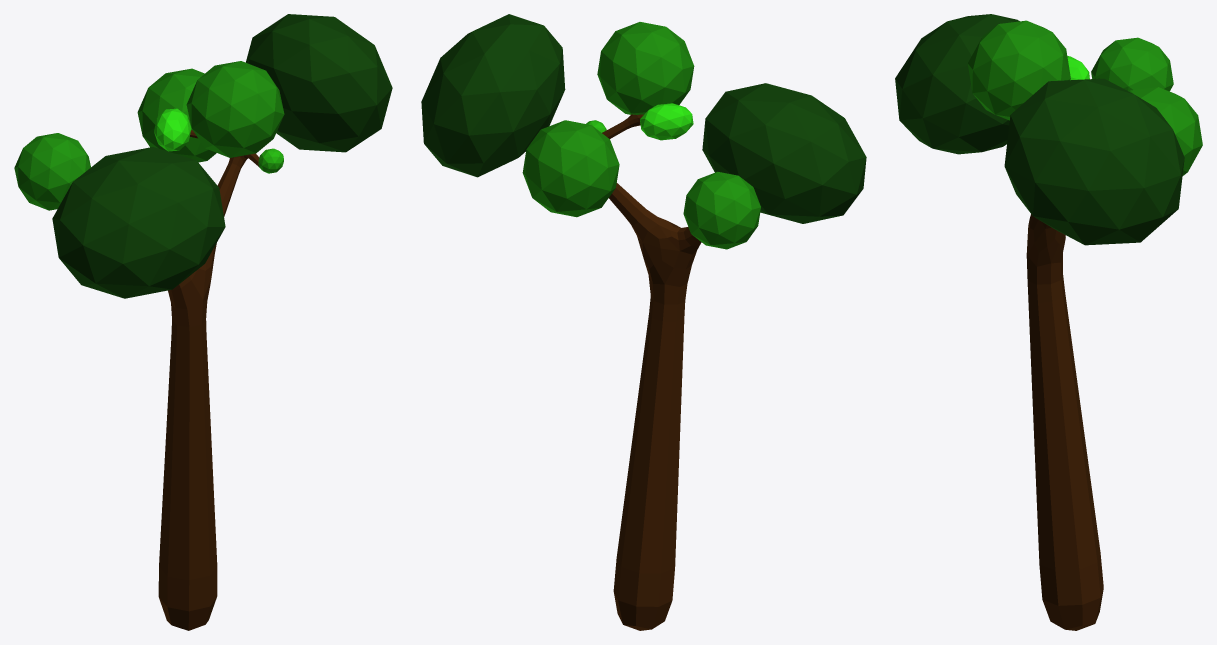
The model's file is ExportedBlenderFBXFile.fbx.
3 views of the same model, side by side, from view 1: azimuth 30°, elevation 25°; view 2: azimuth 150°, elevation 25°; view 3: azimuth 270°, elevation 25° (orthographic). The views are drawn at different scales.
Parts seen in each view (by area): view 1: Icosphere, Cube, Icosphere.001, Icosphere.003, Icosphere.002, Icosphere.006, Icosphere.004; view 2: Cube, Icosphere.001, Icosphere, Icosphere.006, Icosphere.003, Icosphere.002, Icosphere.004; view 3: Icosphere.001, Cube, Icosphere, Icosphere.003, Icosphere.002, Icosphere.006.
Boxes of the visible parts, bbox=[...] form: Icosphere: bbox=[52, 147, 225, 298]; Cube: bbox=[158, 130, 259, 630]; Icosphere.001: bbox=[246, 14, 392, 152]; Icosphere.003: bbox=[186, 61, 284, 157]; Icosphere.002: bbox=[14, 133, 90, 210]; Icosphere.006: bbox=[137, 68, 216, 162]; Icosphere.004: bbox=[154, 108, 191, 151]; Cube: bbox=[602, 114, 701, 630]; Icosphere.001: bbox=[421, 14, 565, 177]; Icosphere: bbox=[702, 83, 866, 223]; Icosphere.006: bbox=[522, 120, 619, 217]; Icosphere.003: bbox=[597, 22, 694, 114]; Icosphere.002: bbox=[683, 171, 760, 249]; Icosphere.004: bbox=[640, 103, 693, 140]; Icosphere.001: bbox=[1004, 78, 1184, 245]; Cube: bbox=[1026, 214, 1103, 630]; Icosphere: bbox=[895, 14, 1019, 154]; Icosphere.003: bbox=[967, 20, 1070, 120]; Icosphere.002: bbox=[1091, 37, 1173, 91]; Icosphere.006: bbox=[1129, 87, 1202, 175].
Size of the model in its own units: 1.82 by 2.71 by 1.23.
